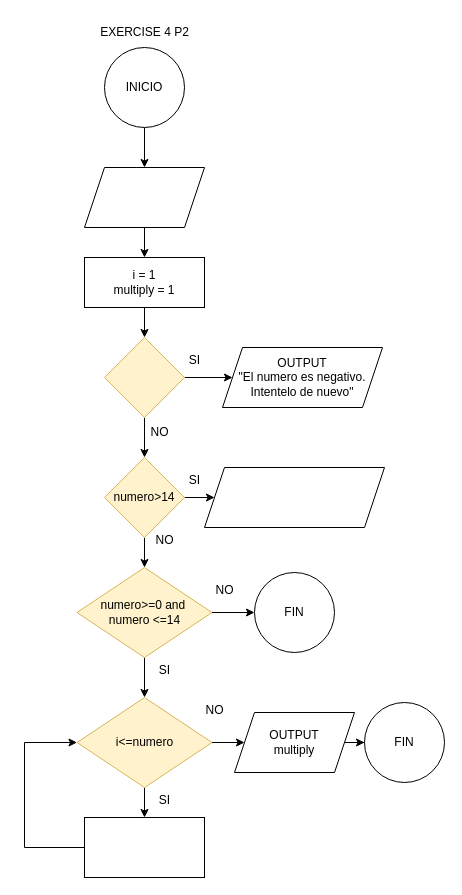
This 462x895 diagram has some shape labels left out. Each missing label, with the centre of its shape:
INPUT numero: point (144, 197)
multiply = multiply *i ++i: point (144, 847)
numero < 0: point (144, 377)
OUTPUT "El numero es muy grande. Intentelo de nuevo": point (294, 497)
